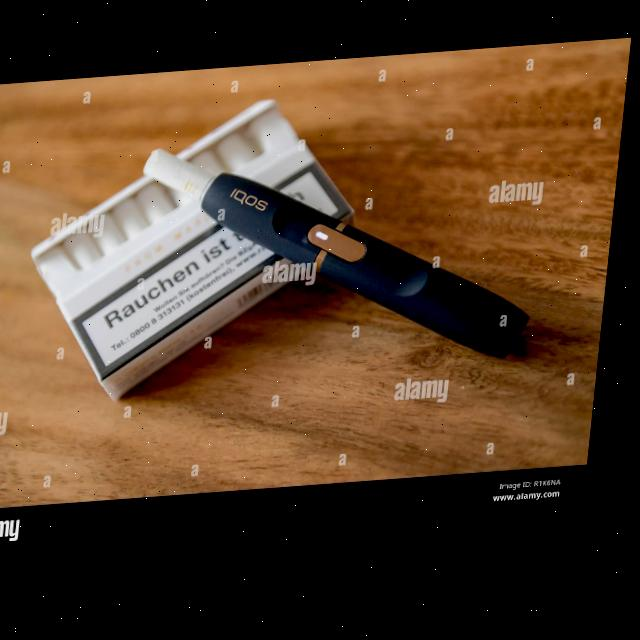vape: (129, 126, 554, 388)
